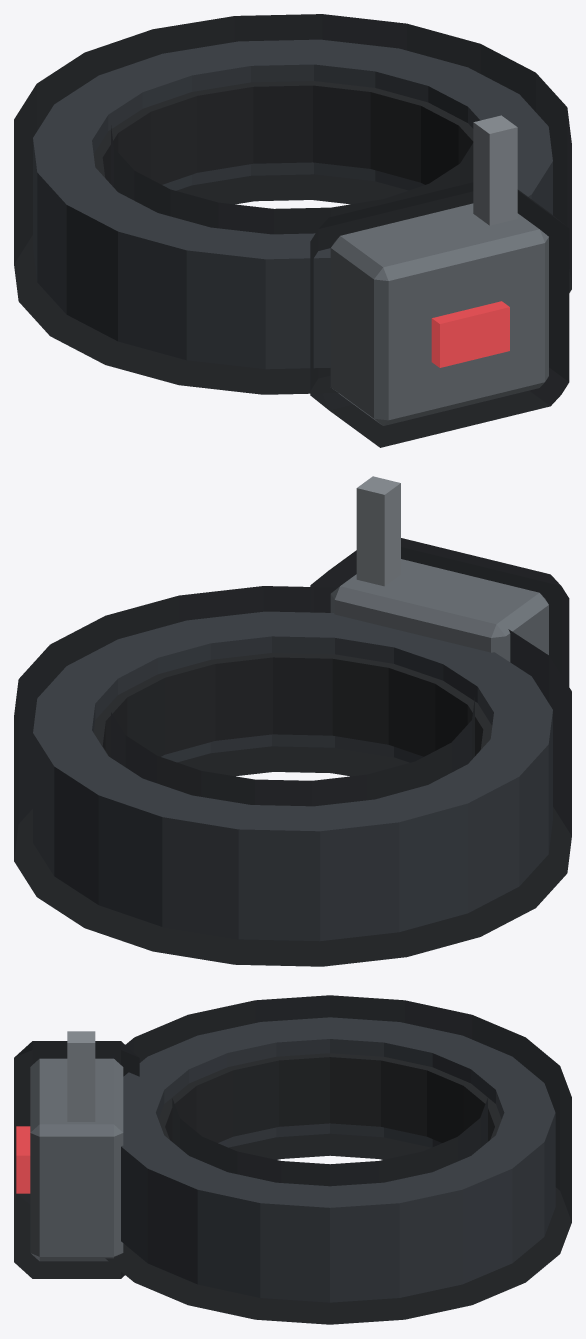
The model's file is SM_Collar.glb.
3 views of the same model, one above another, from view 1: azimuth 30°, elevation 25°; view 2: azimuth 150°, elevation 25°; view 3: azimuth 270°, elevation 25° (orthographic). The views are drawn at different scales.
Parts seen in each view (by area): view 1: SM_Collar, SM_Collar_Outline, SM_Collar_Status; view 2: SM_Collar, SM_Collar_Outline; view 3: SM_Collar, SM_Collar_Outline, SM_Collar_Status.
Boxes of the visible parts, x1,y1,x2,y2 form: SM_Collar: [33, 39, 552, 425]; SM_Collar_Outline: [14, 14, 571, 447]; SM_Collar_Status: [431, 301, 509, 367]; SM_Collar: [33, 476, 552, 941]; SM_Collar_Outline: [14, 538, 571, 966]; SM_Collar: [30, 1017, 555, 1302]; SM_Collar_Outline: [14, 995, 571, 1324]; SM_Collar_Status: [16, 1126, 30, 1193].
Bounding box in the file's own units: 0.2082 × 0.1095 × 0.2401.
3 materials, 1 textured.
